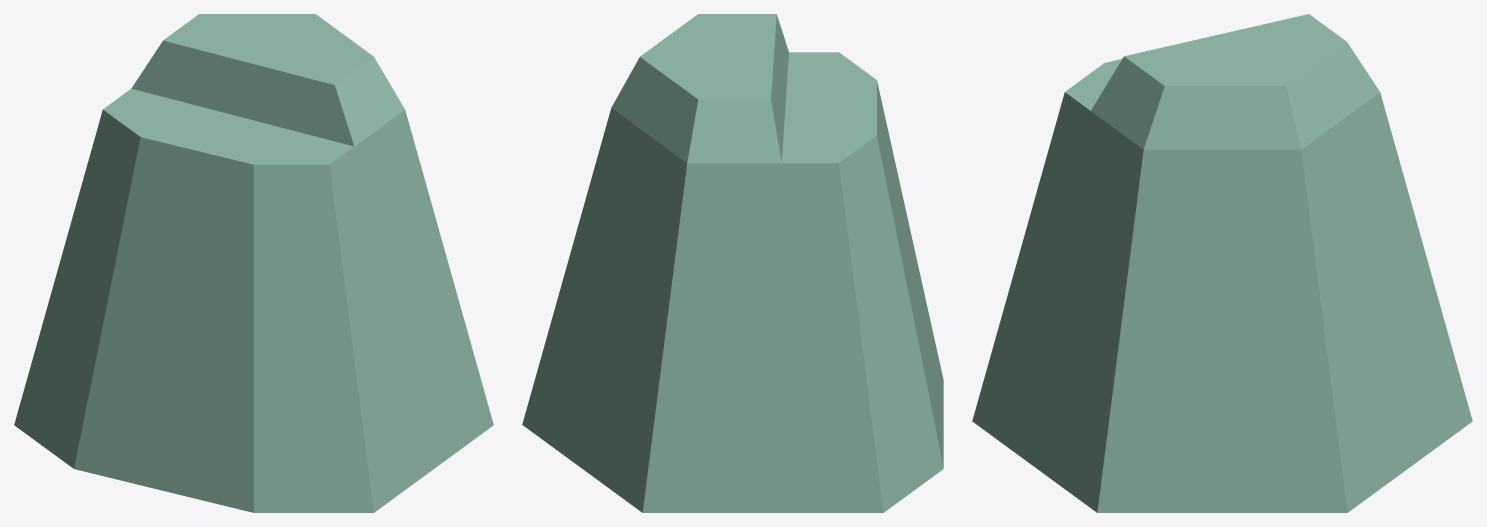
File: naturePack_035.fbx
The picture shows the model from 3 angles, left to right: view 1: azimuth 30°, elevation 25°; view 2: azimuth 150°, elevation 25°; view 3: azimuth 270°, elevation 25°; orthographic projection. The views are drawn at different scales.
Parts seen in each view (by area): view 1: naturePack_035; view 2: naturePack_035; view 3: naturePack_035.
Part boxes in pixels (x1,y1,x2,y2): naturePack_035: (14,14,493,512); naturePack_035: (522,14,943,512); naturePack_035: (972,14,1472,512).
Bounding box in the file's own units: 126 × 123 × 146.
